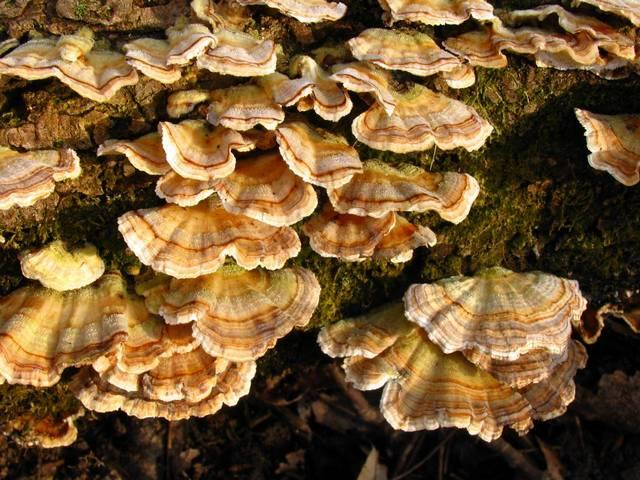Non-edible Mushroom: (0, 0, 640, 426), (316, 264, 603, 443)
